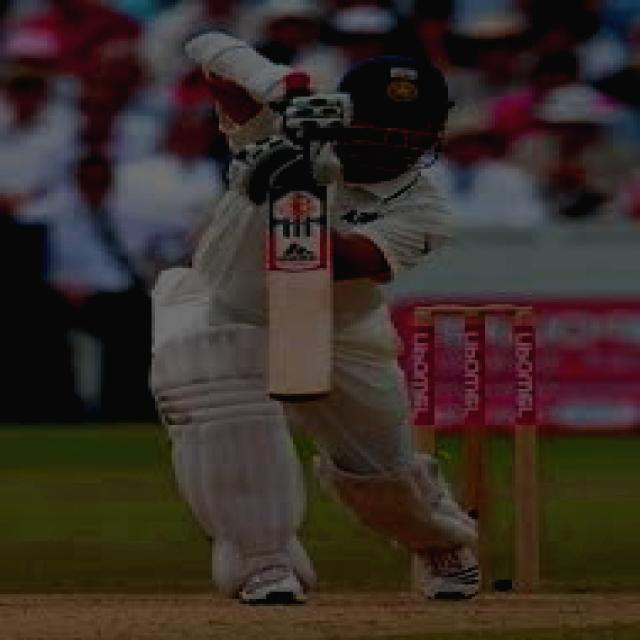toe: (266, 362, 331, 404)
